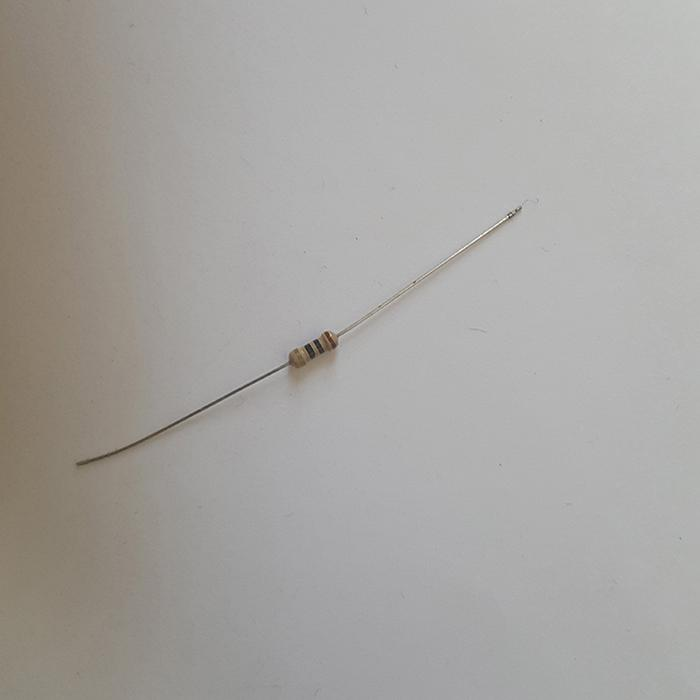resistor: (288, 328, 339, 369)
